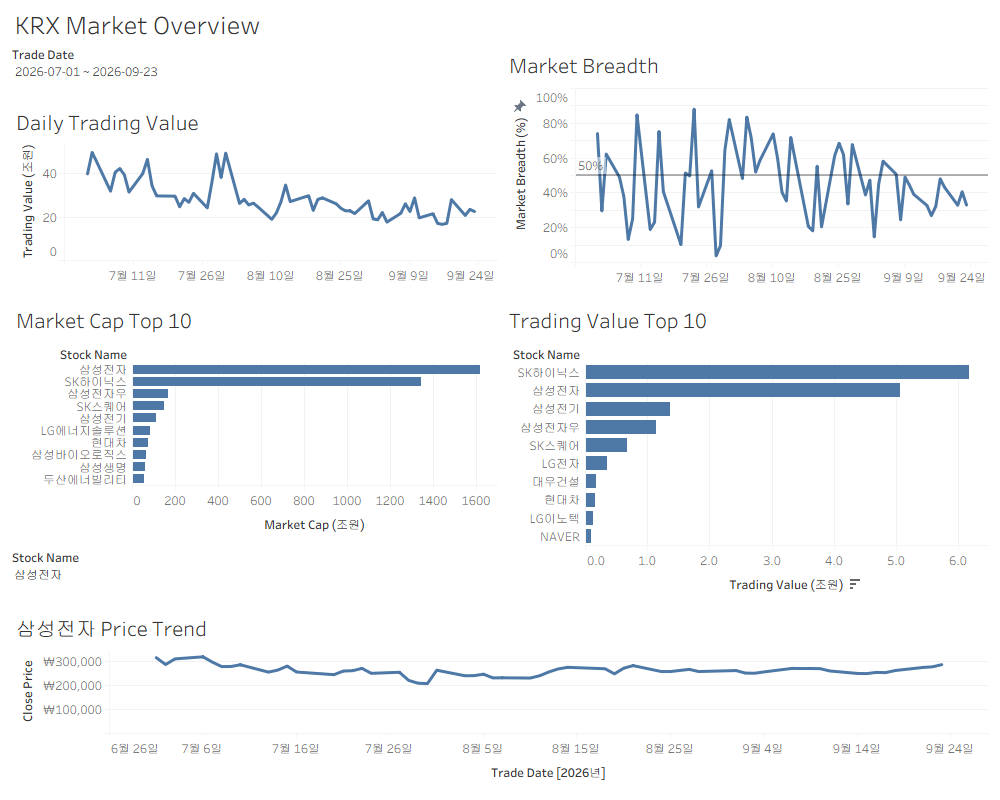

Layout of this report page (visuals, bound fields, positions):
{"tool":"tableau","page":{"name":"KRX Market Overview","canvas":[1000,800],"ordinal":0},"visuals":[{"type":"title","box":[8,8,984,33]},{"type":"filter","title":"Daily Trading Value","param":"[federated.06iymew1sil11615lapwm10kgsx1].[none:trade_date:qk]","box":[8,41,493,57.5]},{"type":"worksheet","title":"Market Breadth","mark":"Automatic","rows":["Calculation_1604233490403328"],"cols":["trade_date"],"box":[501,41,491,255]},{"type":"worksheet","title":"Daily Trading Value","mark":"Line","rows":["Calculation_0058323902865408"],"cols":["trade_date"],"box":[8,98.5,493,197.5]},{"type":"worksheet","title":"Market Cap Top 10","mark":"Automatic","rows":["stock_name"],"cols":["Calculation_0058323905613825"],"box":[8,296,493,247.9]},{"type":"worksheet","title":"Trading Value Top 10","mark":"Automatic","rows":["stock_name"],"cols":["Calculation_0058323902865408"],"box":[501,296,491,307.8]},{"type":"filter","title":"Selected Stock Price Trend","param":"[federated.06iymew1sil11615lapwm10kgsx1].[none:stock_name:nk]","box":[8,543.9,493,60]},{"type":"worksheet","title":"Selected Stock Price Trend","mark":"Automatic","rows":["close_price"],"cols":["trade_date"],"box":[8,603.8,984,188.2]}]}

Visuals, with their boxes in screenshot pixels (x1, y1, x2, y2), scaled from the page's 1000x800 canvas onto the 1000x800 screenshot:
title: 8,8,992,41
"Daily Trading Value" filter: 8,41,501,98
"Market Breadth" worksheet: 501,41,992,296
"Daily Trading Value" worksheet (Line marks): 8,98,501,296
"Market Cap Top 10" worksheet: 8,296,501,544
"Trading Value Top 10" worksheet: 501,296,992,604
"Selected Stock Price Trend" filter: 8,544,501,604
"Selected Stock Price Trend" worksheet: 8,604,992,792
